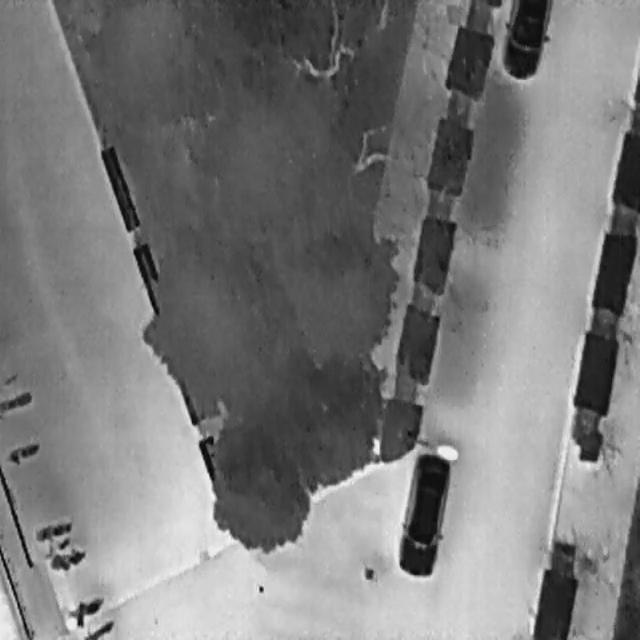Bicycle: (61, 590, 106, 629), (46, 542, 88, 578), (31, 513, 73, 545), (3, 438, 41, 468), (41, 531, 73, 559), (0, 390, 32, 409), (83, 616, 112, 636)
Car: (390, 443, 454, 582), (500, 0, 553, 80)
